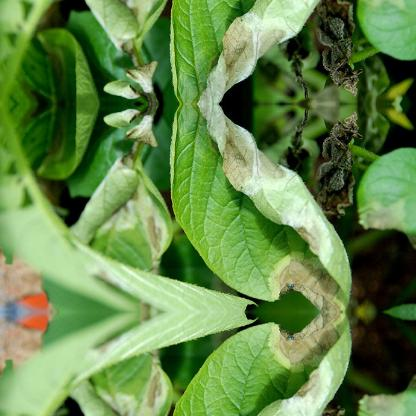Late-Blight: (204, 104, 416, 310), (204, 0, 415, 104), (204, 314, 415, 416), (88, 108, 174, 264), (88, 0, 174, 100), (88, 359, 174, 416)
